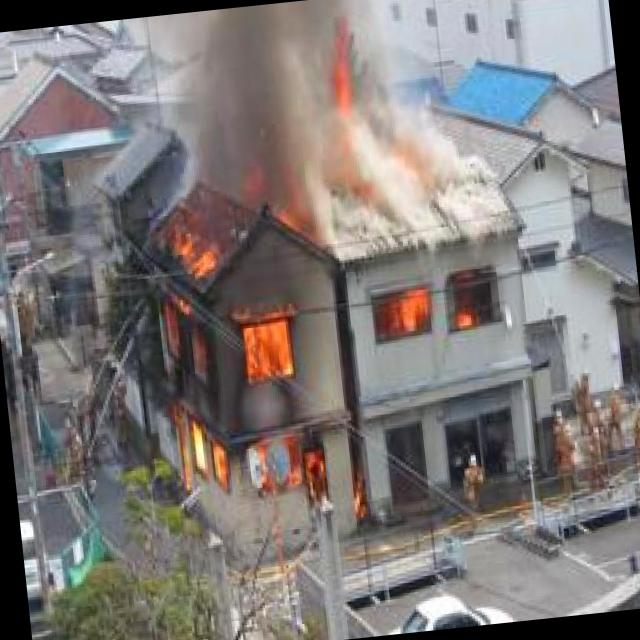Smoke: (156, 0, 473, 253)
